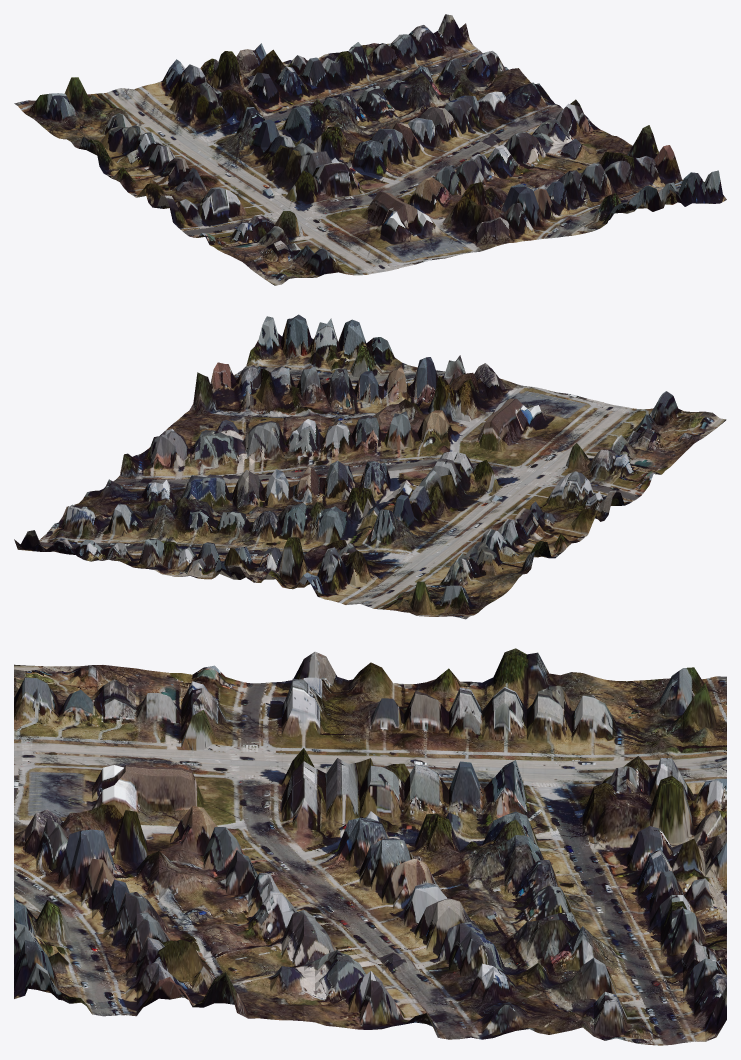
The model's file is terrain-lod3.glb.
3 renders of one model, top to bottom at view 1: azimuth 30°, elevation 25°; view 2: azimuth 150°, elevation 25°; view 3: azimuth 270°, elevation 25°, orthographic. The views are drawn at different scales.
Visible parts, largest first — view 1: geometry_0; view 2: geometry_0; view 3: geometry_0.
Part boxes in pixels (x1,y1,x2,y2): geometry_0: [14, 14, 726, 285]; geometry_0: [14, 314, 726, 619]; geometry_0: [14, 648, 726, 1045].
Bounding box in the file's own units: 1023 × 165 × 1023.
1 material, 1 textured.
